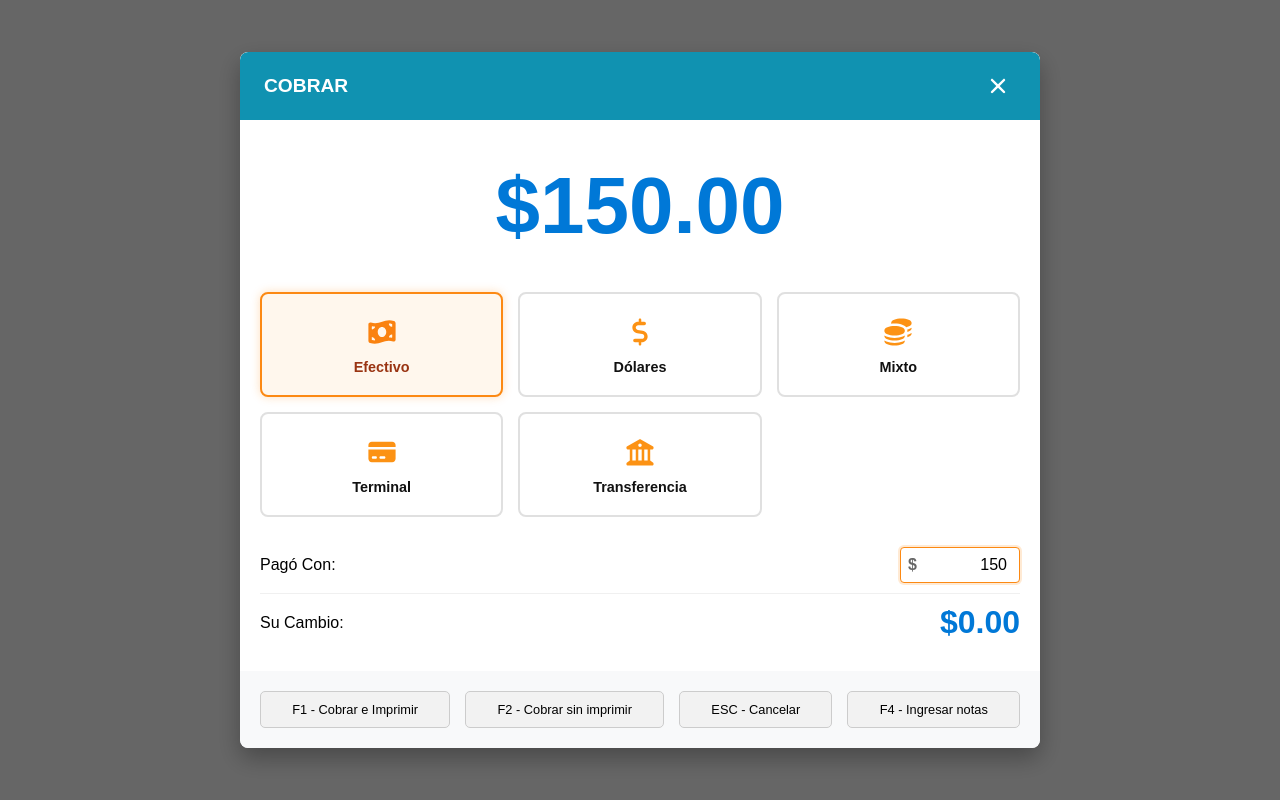
Scenario: PaymentModal: modo de impresion y accesibilidad › muestra el tipo de cambio de configuracion como badge informativo en cobros en Dolares
Click the button "Dólares".
click(640, 344)  # box [518,292,762,397]
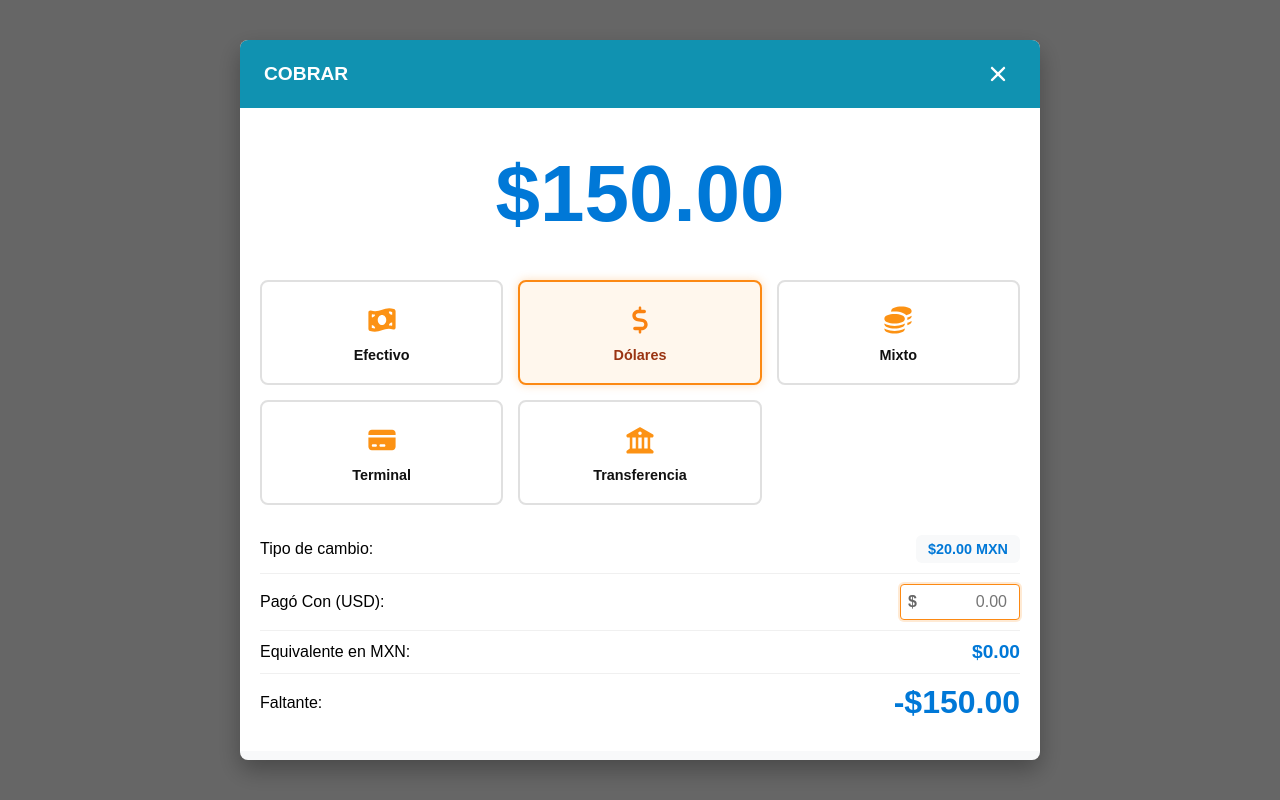
expect the text "$20.00 MXN" is shown: met, box [916,535,1020,563]
